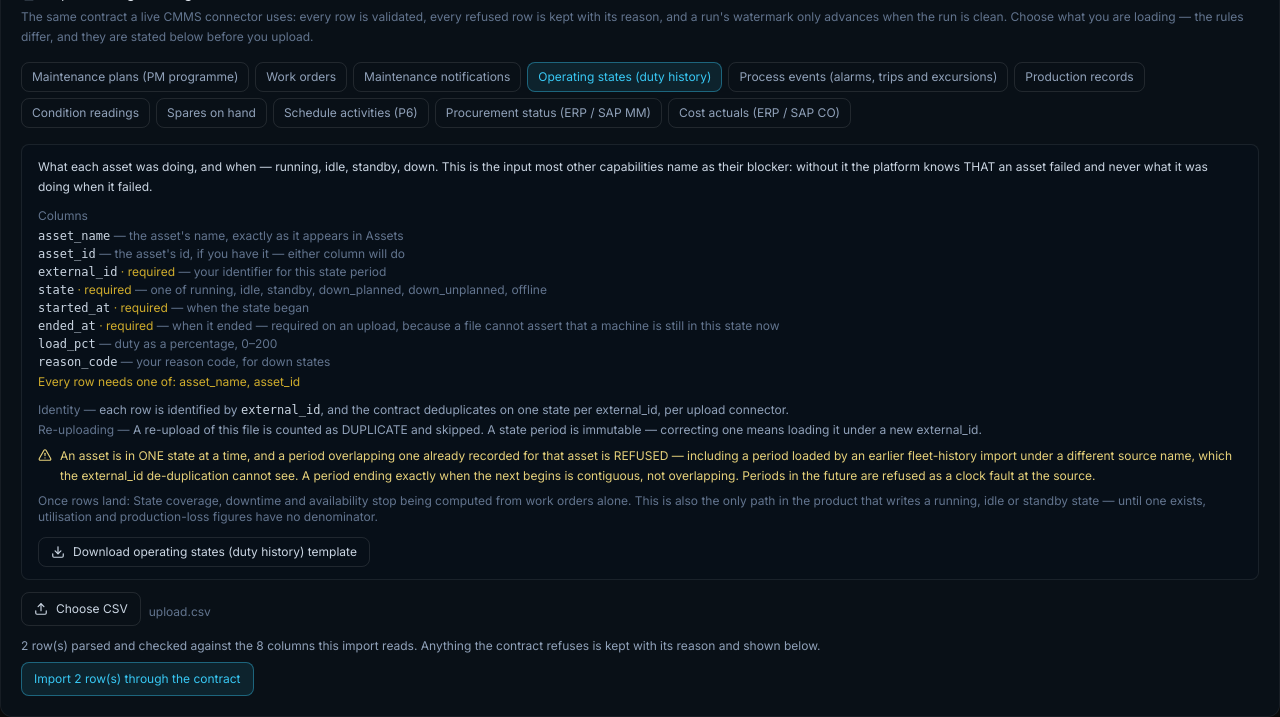
Test: a run is never left running › a door refusal is shown and no run is finished, because none was opened
Earlier steps of the test are not shown.
(page scrolled)
Step 1. Click the button "Import 2 row(s) through the contract" → {"x": 137, "y": 679}, box [21,662,254,696]
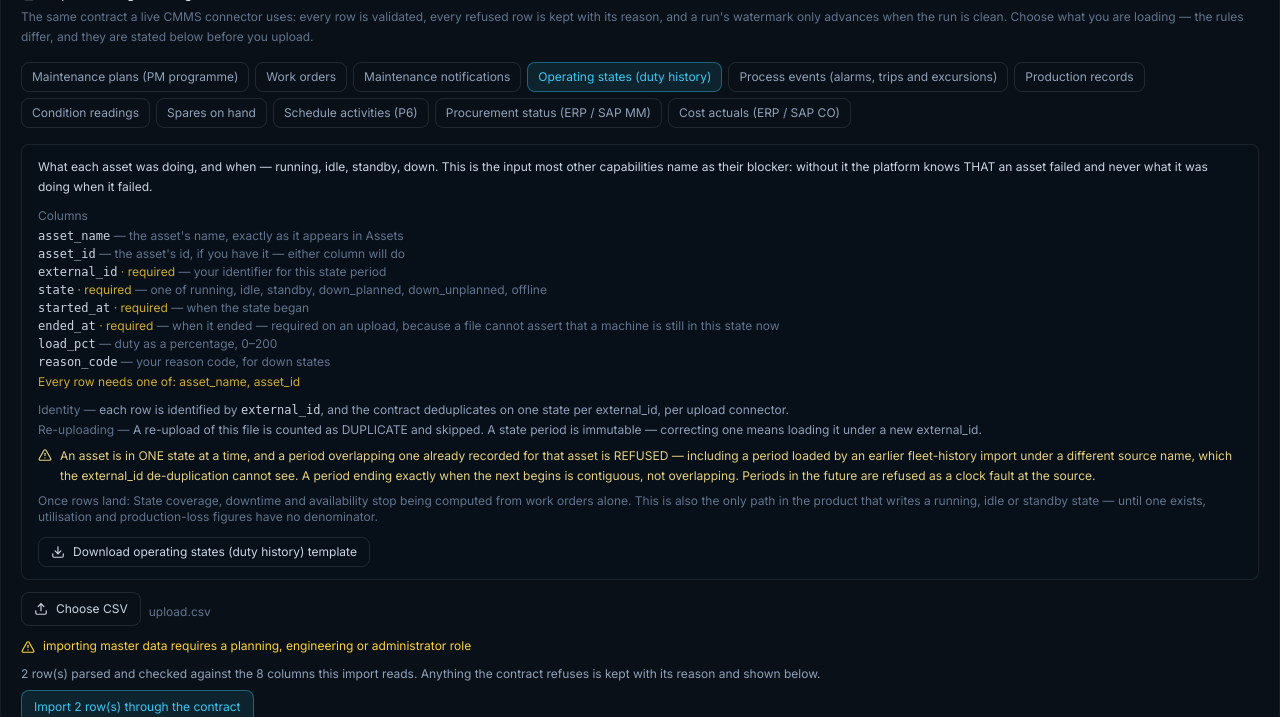
Result: the text "requires a planning" is shown at [43,638,471,653]
